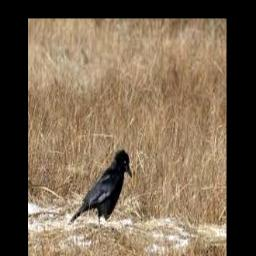Crow: (69, 147, 132, 226)
